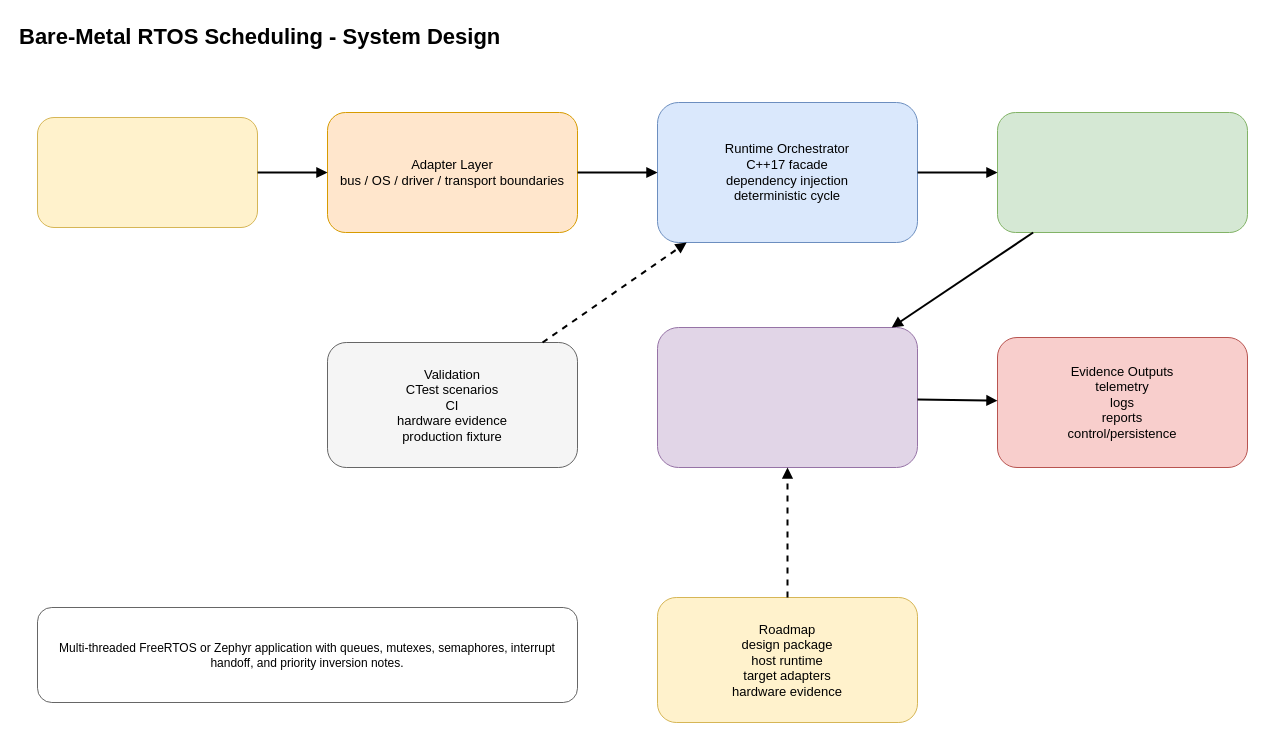
Some shapes in this 1265 by 740 pixel diagram are drawn without their labels. The shapes that lost their labels are listed below. From the top down, each one's centre as x and y in pixels, then its label:
the point at 147,172: Input Sources hardware, simulator, commands
the point at 1122,172: Domain Model typed state derived metrics project decision
the point at 787,397: Policy Gates safety readiness resource limits integrity checks
